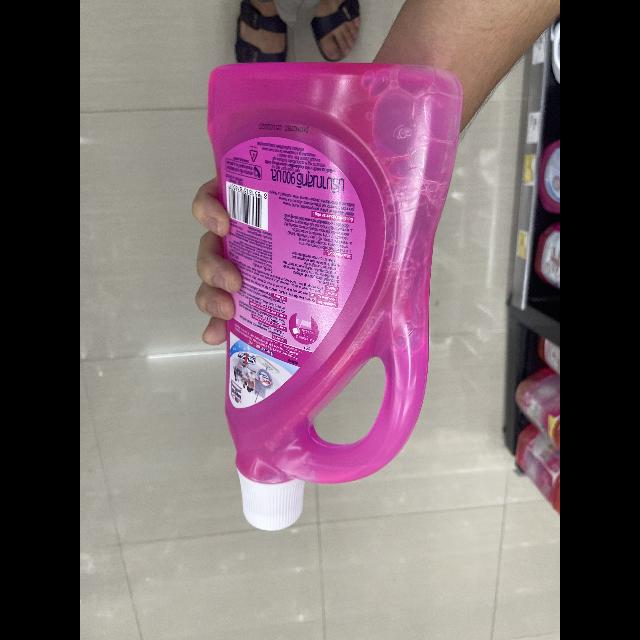chemical_plastic_gallon: (197, 46, 468, 536)
